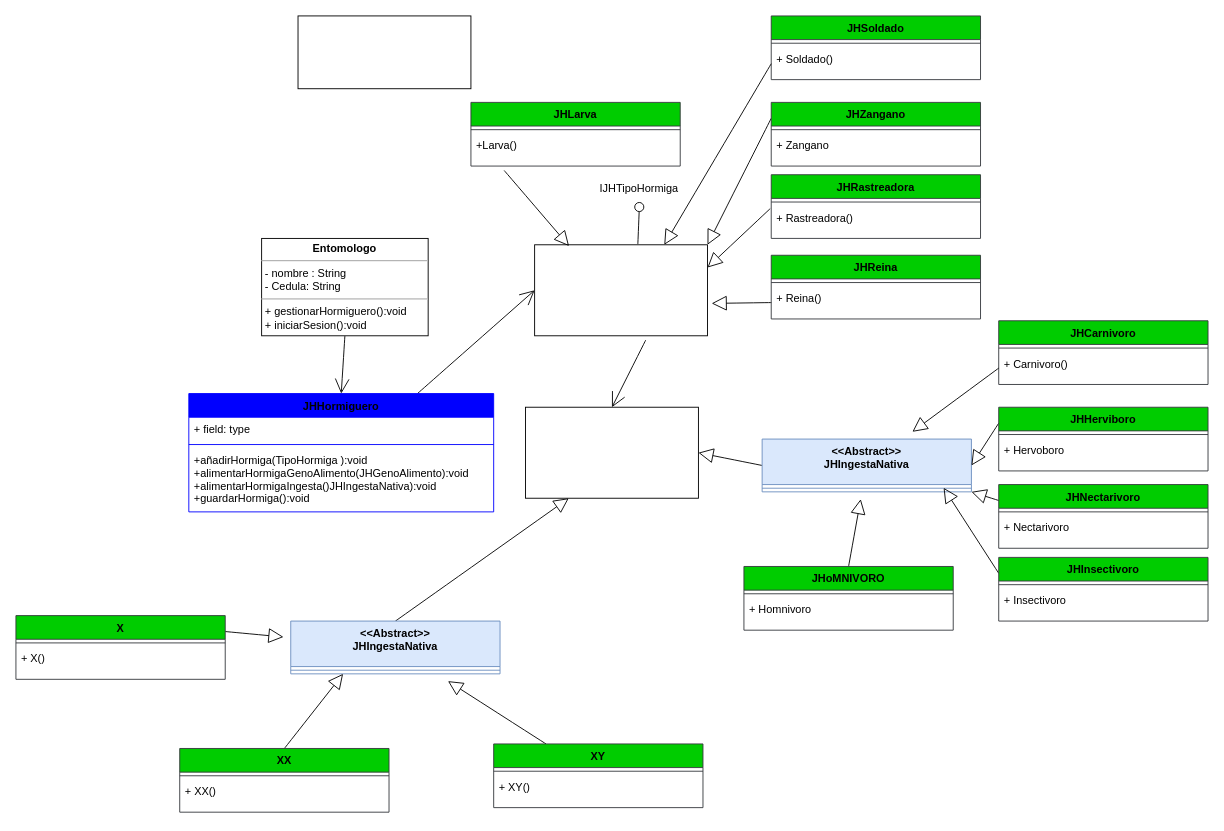
Image size: 1224x831. Some labels were removed from this diagram. Each missing label, with the centre of its shape:
<<Abstract>> JHAlimento # tipo: String + toString():String: pixel 611 452
<<Abstract>> JHTipoHormiga # tipo: String + toString():String: pixel 621 290
<<Interface>> IJHTipoHormiga + comer(Alimento):boolean: pixel 384 52
